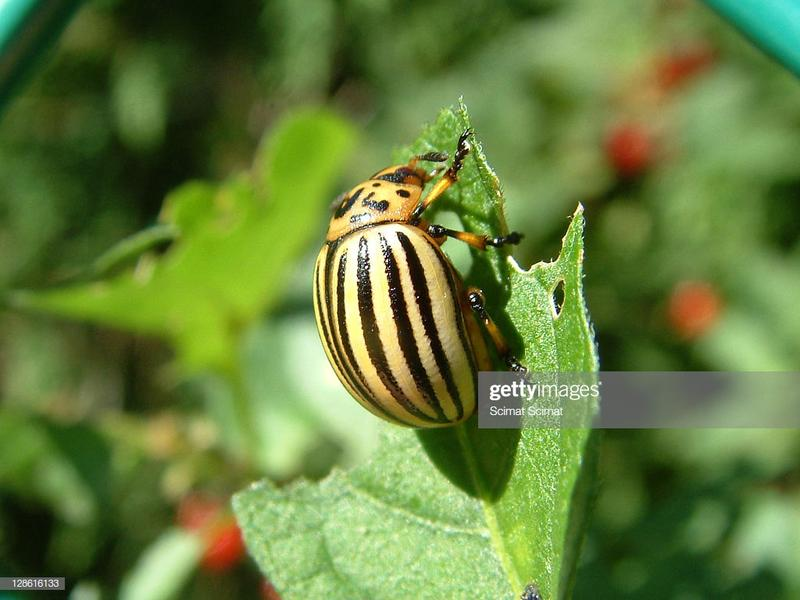hrosc: (299, 147, 521, 441)
